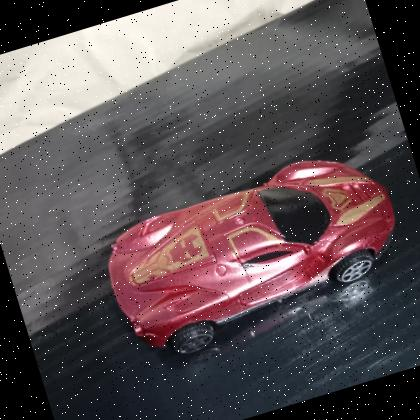Car: (108, 161, 396, 358)
